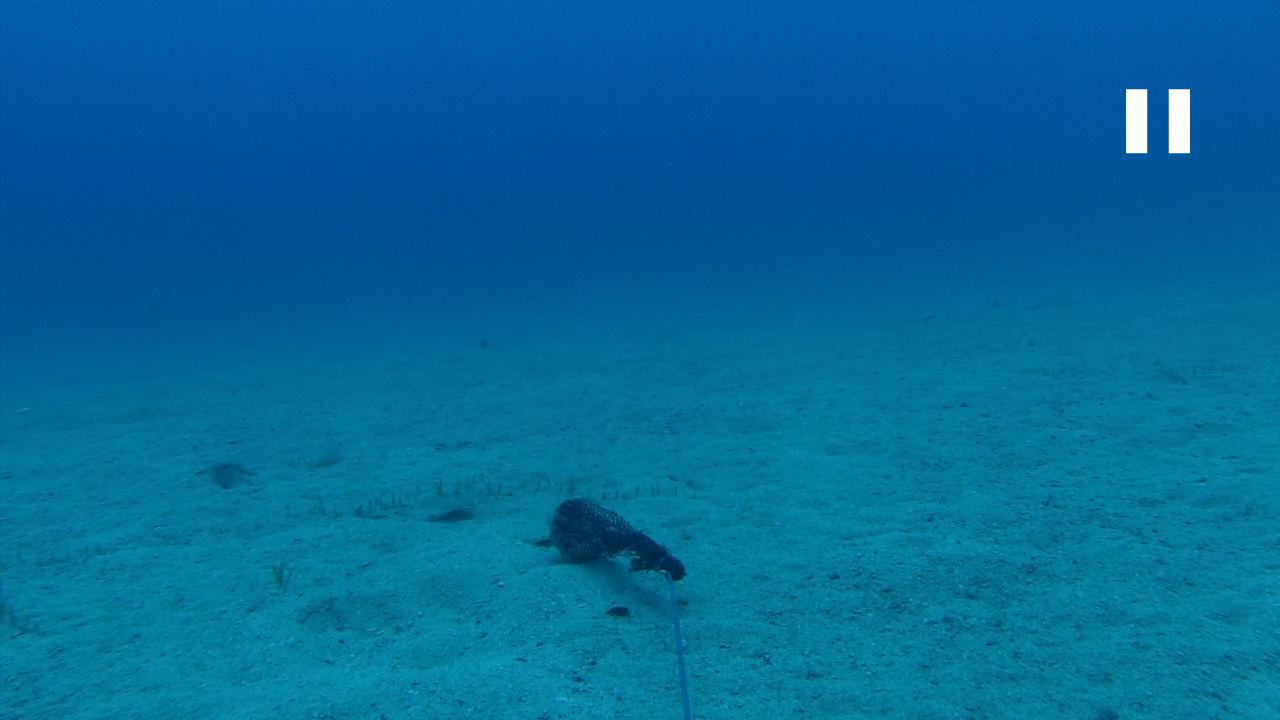bothus: (418, 494, 480, 524)
